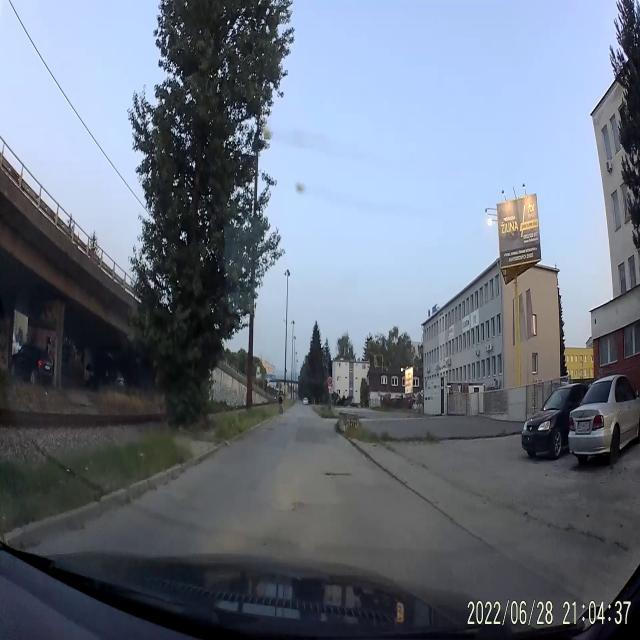Pothole: (287, 496, 308, 517), (322, 469, 352, 479)
